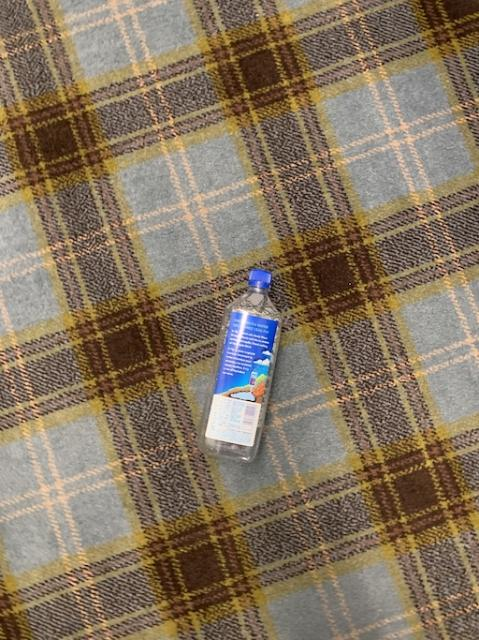plastic: (197, 269, 279, 460)
